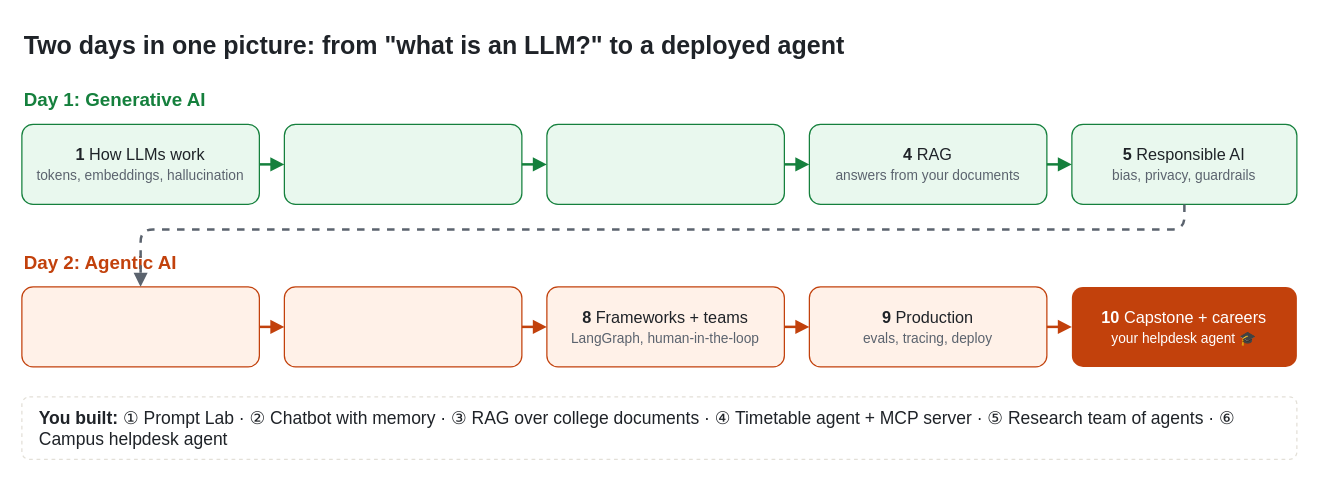
This 1319x481 diagram has some shape labels left out. The shapes that lost their labels are listed below. From the top down, each one's box as (x1, y1, x2, y2) in pixels, then its label:
(283, 123, 522, 204): 2 Prompt engineering 6 parts, few-shot, JSON
(546, 123, 784, 204): 3 LLM APIs calls, memory, streaming, cost
(21, 286, 259, 367): 6 Chatbots to agents ReAct loop, when not to
(283, 286, 522, 367): 7 Tool calling + MCP real tools, your own server
